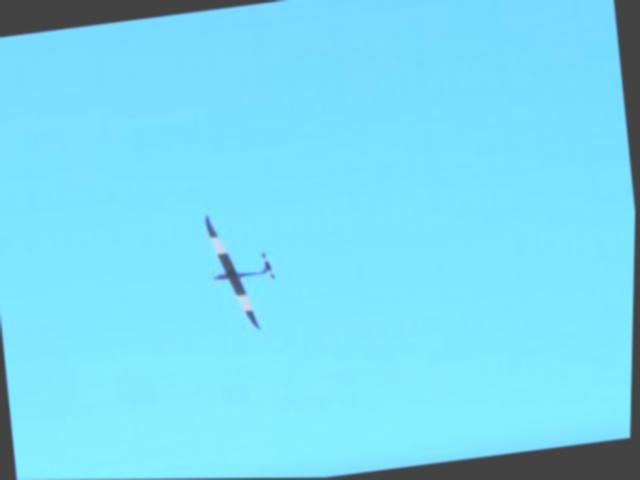uav: (201, 200, 290, 340)
